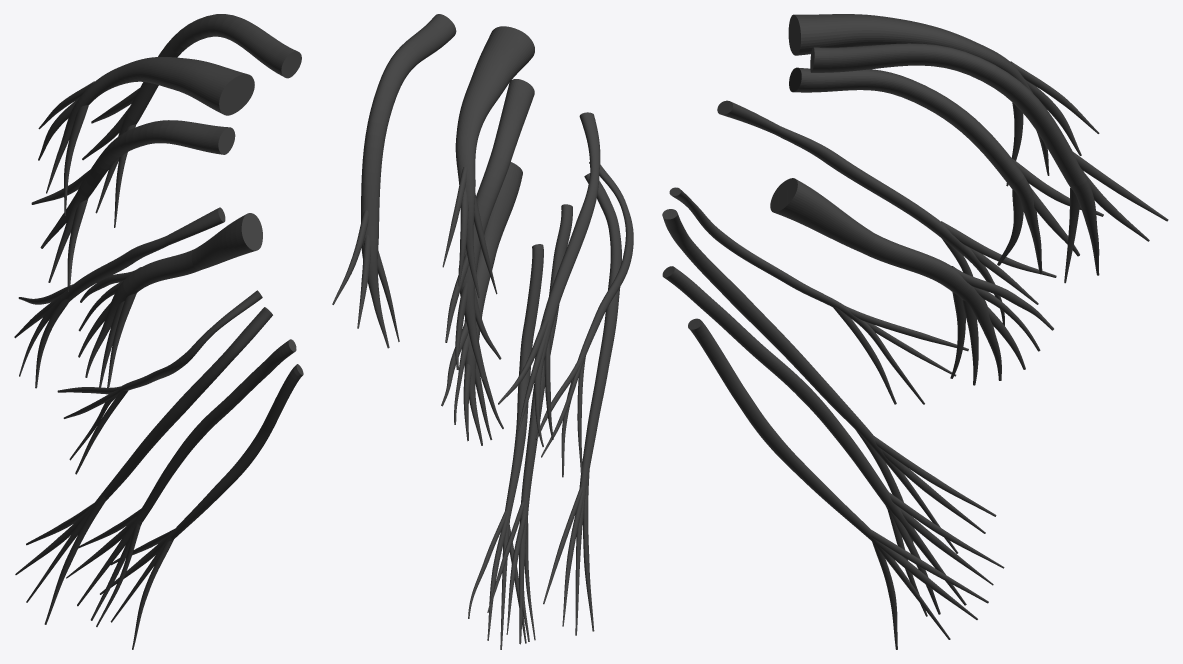
File: N_1_olfactory.glb
The picture shows the model from 3 angles, left to right: view 1: azimuth 30°, elevation 25°; view 2: azimuth 150°, elevation 25°; view 3: azimuth 270°, elevation 25°; orthographic projection. The views are drawn at different scales.
Parts seen in each view (by area): view 1: N_1_olfactory; view 2: N_1_olfactory; view 3: N_1_olfactory.
Boxes of the visible parts, x1,y1,x2,y2 form: N_1_olfactory: (14, 14, 303, 649); N_1_olfactory: (332, 14, 633, 649); N_1_olfactory: (662, 14, 1168, 649).
Size of the model in its own units: 0.00463 by 0.0124 by 0.0085.
Materials: 1 (1 with a texture image).
